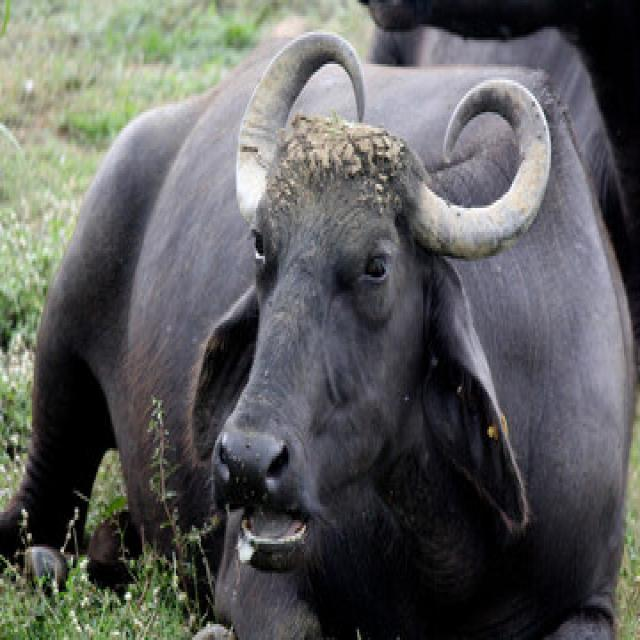Buffalo: (0, 24, 638, 637)
